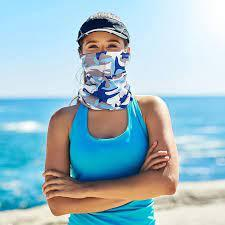cap: (70, 6, 142, 44)
scarf-kerchief: (78, 48, 133, 109)
